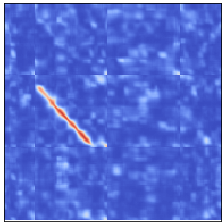action_path: (32, 75, 106, 149)
